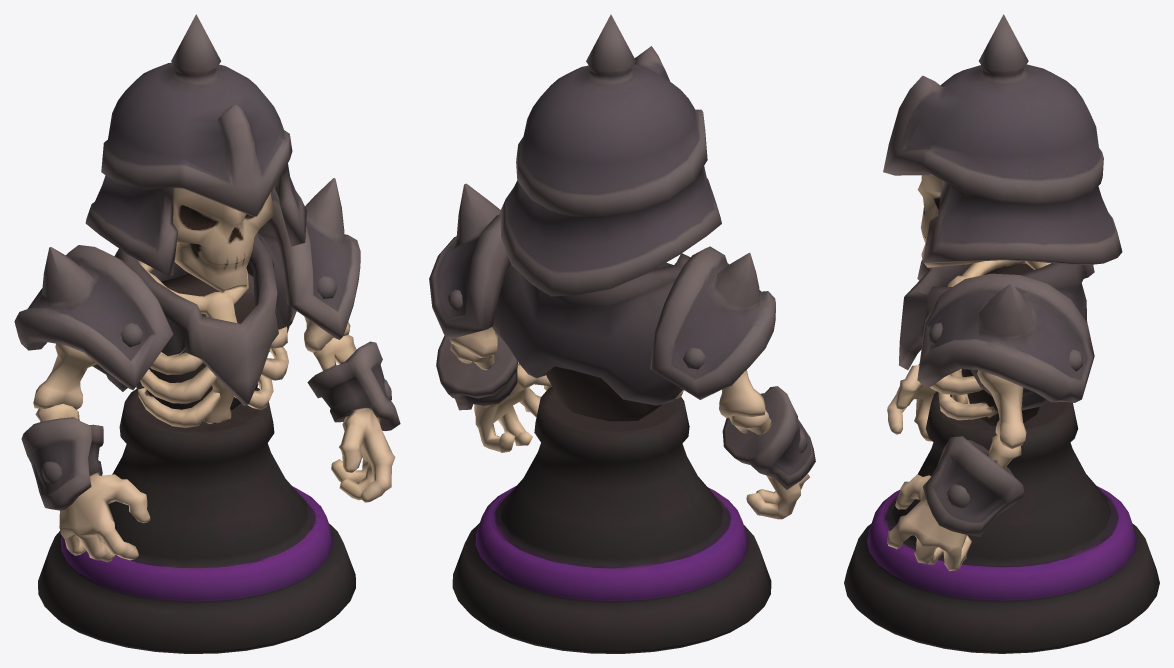
The model's file is enemy_skeleton.obj.
The picture shows the model from 3 angles, left to right: view 1: azimuth 30°, elevation 25°; view 2: azimuth 150°, elevation 25°; view 3: azimuth 270°, elevation 25°; orthographic projection.
Visible parts, largest first — view 1: enemy_skeleton; view 2: enemy_skeleton; view 3: enemy_skeleton.
Part boxes in pixels (<box>): enemy_skeleton: <box>14,14,400,653</box>; enemy_skeleton: <box>429,14,815,653</box>; enemy_skeleton: <box>844,14,1159,653</box>.
Bounding box in the file's own units: 0.6362 × 0.9995 × 0.4985.
Materials: 1 (1 with a texture image).
